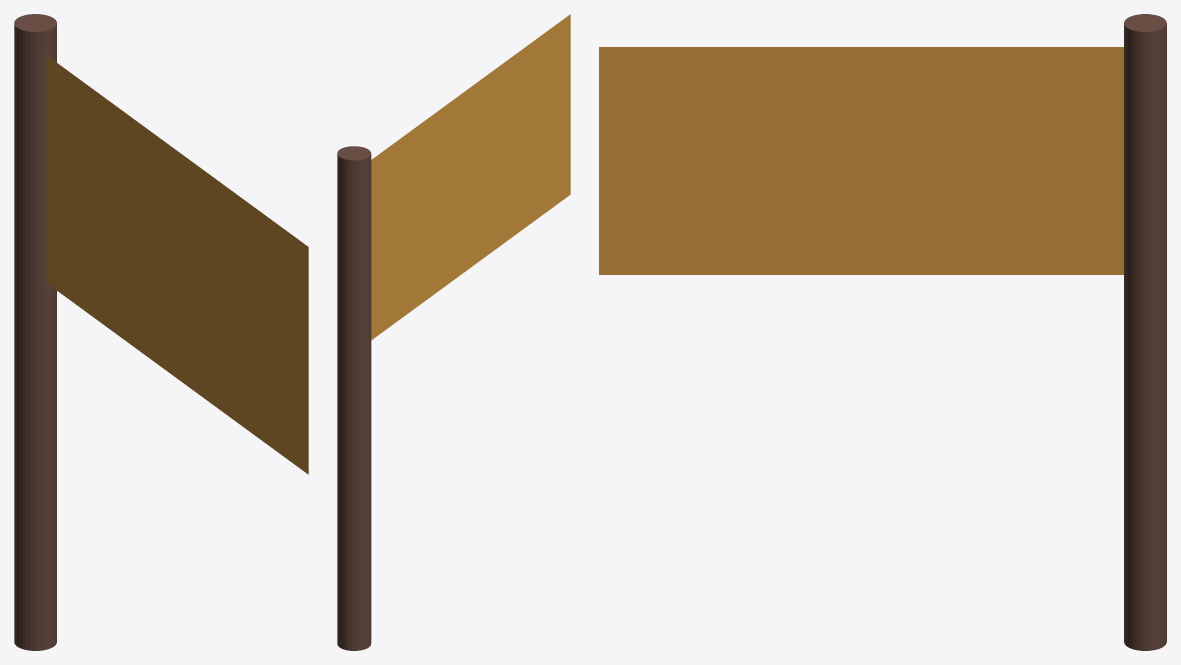
The model's file is Flag_04.fbx.
3 renders of one model, left to right at view 1: azimuth 30°, elevation 25°; view 2: azimuth 150°, elevation 25°; view 3: azimuth 270°, elevation 25°, orthographic. The views are drawn at different scales.
Parts seen in each view (by area): view 1: Plane; view 2: Plane; view 3: Plane.
Part boxes in pixels (bbox=[...]): Plane: bbox=[14, 14, 308, 650]; Plane: bbox=[337, 14, 570, 650]; Plane: bbox=[599, 14, 1166, 650].
Bounding box in the file's own units: 12.55 × 200 × 166.
